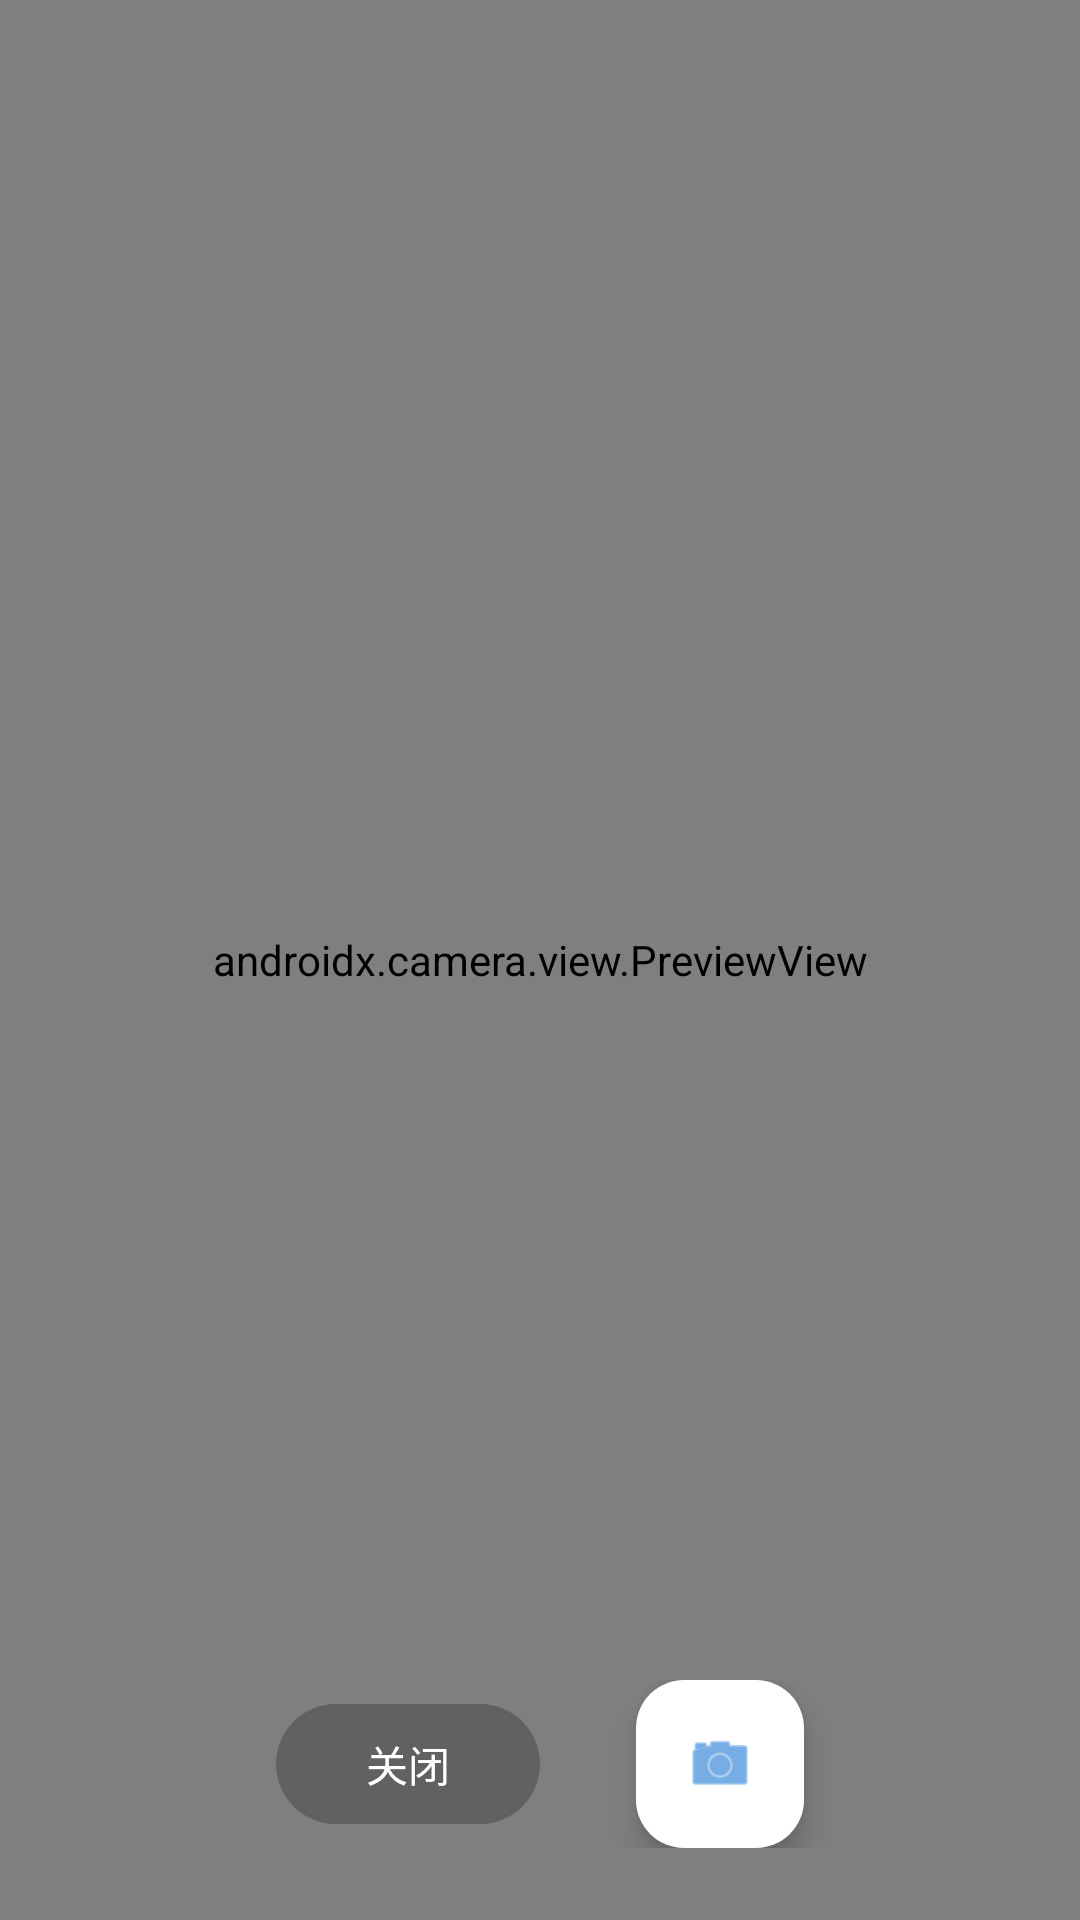

Icon bounding boxes for this 1080*1920 phone screenshot, format Rect(x1, y1, x2, y2):
拍照: Rect(636, 1680, 804, 1848)
